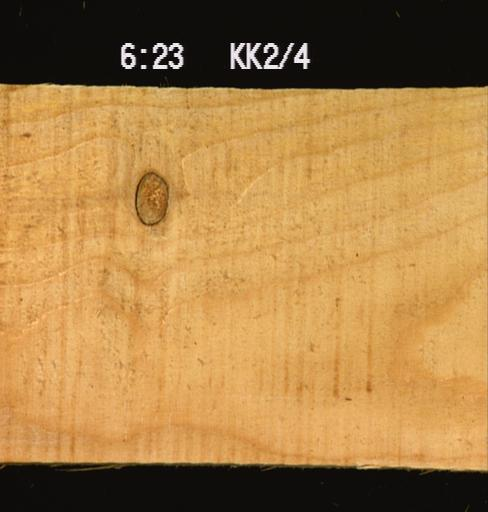dry_knot: (133, 169, 171, 226)
